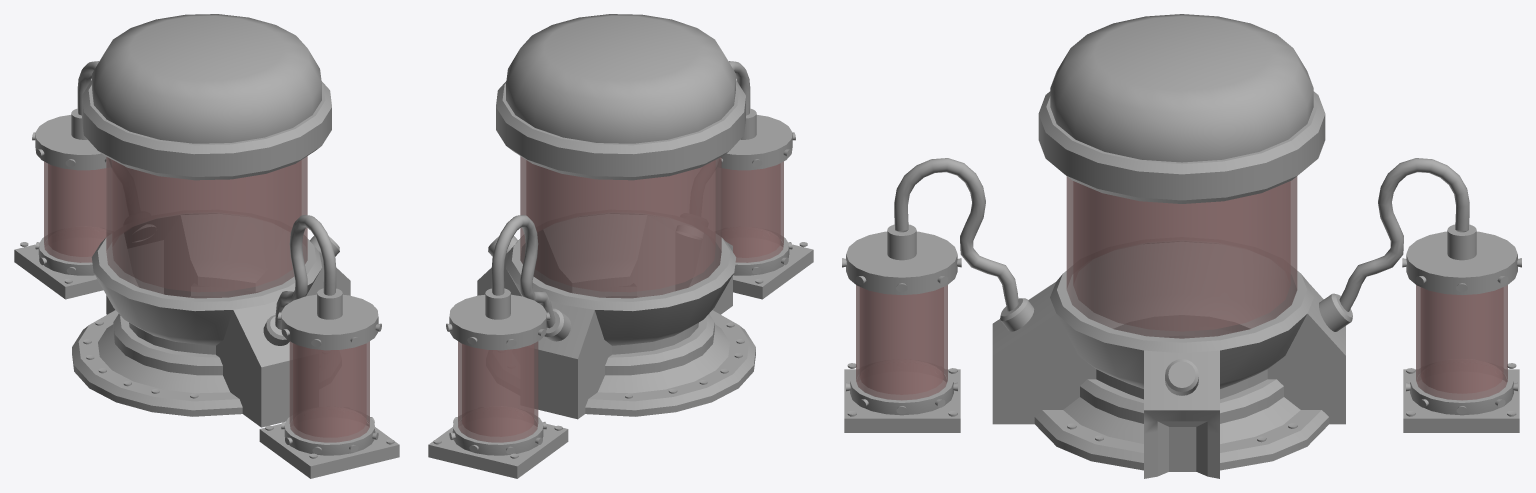
File: Prueba_1.0.fbx
3 renders of one model, left to right at view 1: azimuth 30°, elevation 25°; view 2: azimuth 150°, elevation 25°; view 3: azimuth 270°, elevation 25°, orthographic. The views are drawn at different scales.
Parts seen in each view (by area): view 1: polySurface3835, polySurface3786, polySurface3787, polySurface3837, polySurface3844, polySurface3830, polySurface3843; view 2: polySurface3835, polySurface3786, polySurface3787, polySurface3830, polySurface3843, polySurface3837, polySurface3844; view 3: polySurface3835, polySurface3786, polySurface3787, polySurface3830, polySurface3837, polySurface3844, polySurface3843.
Boxes of the visible parts, x1=… form: polySurface3835: x1=14, y1=14, x2=399, y2=478; polySurface3786: x1=106, y1=156, x2=307, y2=298; polySurface3787: x1=112, y1=160, x2=301, y2=291; polySurface3837: x1=289, y1=341, x2=369, y2=442; polySurface3844: x1=293, y1=343, x2=366, y2=437; polySurface3830: x1=44, y1=161, x2=106, y2=262; polySurface3843: x1=48, y1=164, x2=106, y2=256; polySurface3835: x1=428, y1=14, x2=813, y2=478; polySurface3786: x1=520, y1=156, x2=721, y2=298; polySurface3787: x1=526, y1=160, x2=715, y2=291; polySurface3830: x1=458, y1=341, x2=538, y2=442; polySurface3843: x1=462, y1=344, x2=533, y2=436; polySurface3837: x1=721, y1=161, x2=783, y2=262; polySurface3844: x1=721, y1=163, x2=780, y2=257; polySurface3835: x1=842, y1=14, x2=1521, y2=478; polySurface3786: x1=1066, y1=176, x2=1297, y2=338; polySurface3787: x1=1073, y1=181, x2=1290, y2=331; polySurface3830: x1=1416, y1=285, x2=1507, y2=400; polySurface3837: x1=856, y1=285, x2=947, y2=400; polySurface3844: x1=860, y1=287, x2=943, y2=394; polySurface3843: x1=1421, y1=287, x2=1503, y2=393.
Bounding box in the file's own units: 26.15 × 31.35 × 54.47.
